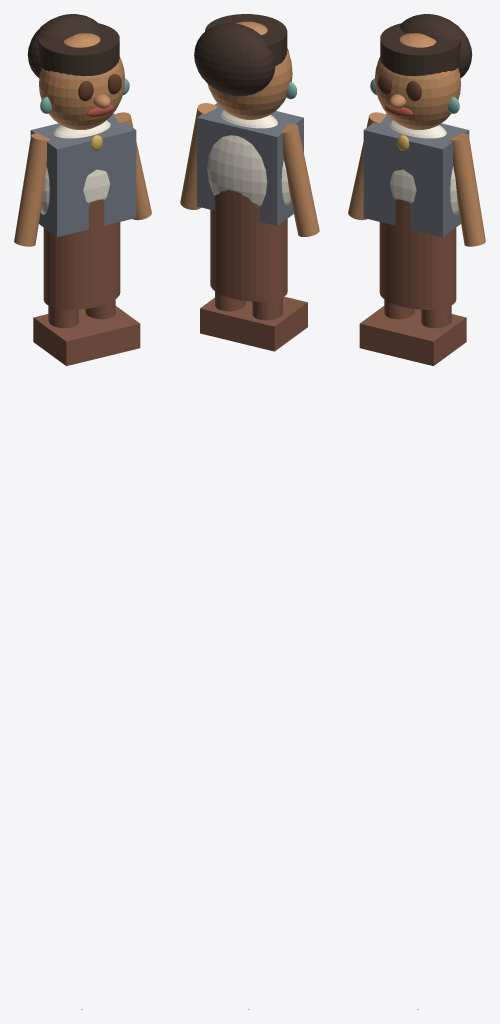
File: leola_clay_avatar.glb
3 renders of one model, left to right at view 1: azimuth 30°, elevation 25°; view 2: azimuth 150°, elevation 25°; view 3: azimuth 330°, elevation 25°, orthographic.
Visible parts, largest first — view 1: Leola_Vest, Leola_Pants, Leola_Head, Leola_BraidCrown, Leola_Boot_L, Leola_Arm_L, Leola_Boot_R, Leola_Bun, Leola_Torso, Leola_Arm_R, Leola_Leg_L, Leola_Leg_R; view 2: Leola_Pants, Leola_Vest, Leola_Bun, Leola_Torso, Leola_Head, Leola_Arm_L, Leola_Boot_L, Leola_BraidCrown, Leola_Boot_R, Leola_Arm_R, Leola_Leg_L, Leola_Leg_R; view 3: Leola_Vest, Leola_Pants, Leola_Head, Leola_BraidCrown, Leola_Boot_R, Leola_Arm_R, Leola_Boot_L, Leola_Bun, Leola_Torso, Leola_Arm_L, Leola_Leg_R, Leola_Leg_L.
Part boxes in pixels (x1,y1,x2,y2): Leola_Vest: (30, 113, 136, 237); Leola_Pants: (43, 199, 120, 309); Leola_Head: (39, 33, 124, 129); Leola_BraidCrown: (38, 23, 119, 76); Leola_Boot_L: (33, 314, 103, 365); Leola_Arm_L: (14, 133, 50, 246); Leola_Boot_R: (78, 306, 140, 356); Leola_Bun: (27, 14, 99, 77); Leola_Torso: (41, 120, 110, 214); Leola_Arm_R: (113, 112, 151, 220); Leola_Leg_L: (48, 305, 78, 328); Leola_Leg_R: (85, 299, 115, 319); Leola_Pants: (210, 190, 287, 301); Leola_Vest: (197, 103, 303, 225); Leola_Bun: (194, 23, 275, 96); Leola_Torso: (207, 110, 291, 206); Leola_Head: (207, 21, 292, 119); Leola_Arm_L: (280, 124, 319, 236); Leola_Boot_L: (237, 296, 307, 351); Leola_BraidCrown: (205, 14, 287, 65); Leola_Boot_R: (200, 297, 252, 342); Leola_Arm_R: (180, 103, 217, 209); Leola_Leg_L: (252, 297, 282, 320); Leola_Leg_R: (215, 291, 245, 311); Leola_Vest: (363, 113, 469, 237); Leola_Pants: (379, 199, 456, 309); Leola_Head: (375, 33, 460, 129); Leola_BraidCrown: (380, 23, 461, 76); Leola_Boot_R: (396, 314, 466, 365); Leola_Arm_R: (449, 133, 485, 246); Leola_Boot_L: (359, 306, 421, 356); Leola_Bun: (400, 14, 472, 77); Leola_Torso: (389, 120, 458, 214); Leola_Arm_L: (348, 112, 386, 220); Leola_Leg_R: (421, 305, 451, 328); Leola_Leg_L: (384, 299, 414, 319).
Size of the model in its own units: 4.02 by 27.96 by 2.77.
